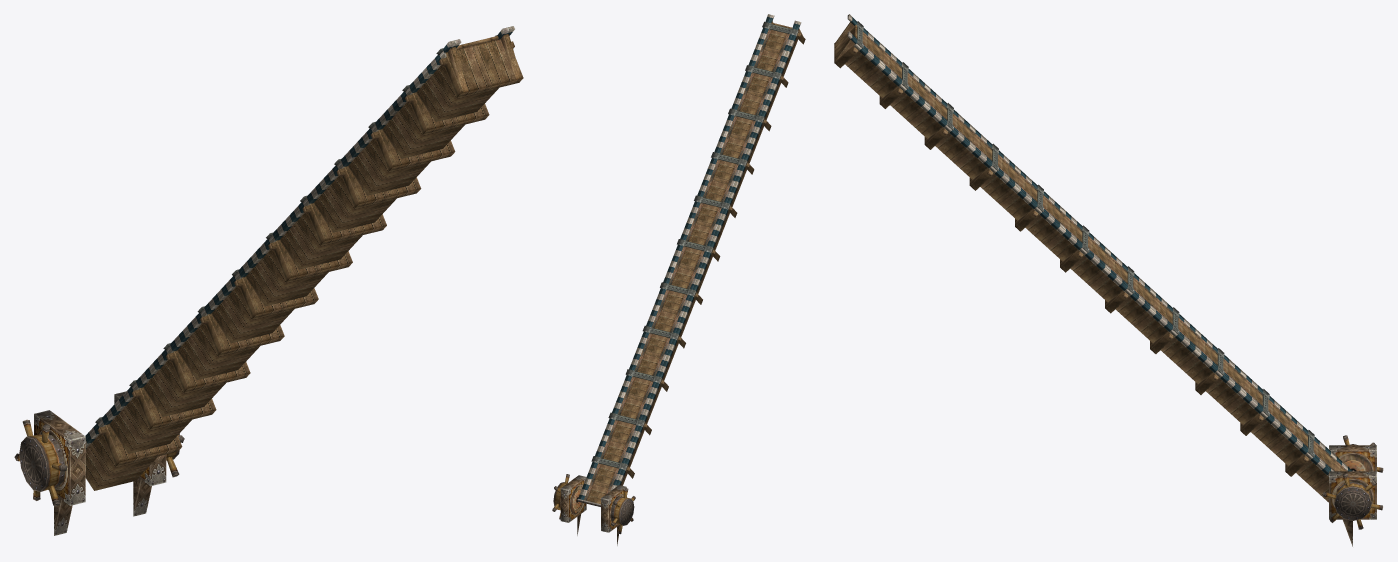
The model's file is OBJDrawbridge.gltf.
3 renders of one model, left to right at view 1: azimuth 30°, elevation 25°; view 2: azimuth 150°, elevation 25°; view 3: azimuth 270°, elevation 25°, orthographic. The views are drawn at different scales.
Parts seen in each view (by area): view 1: DrawbridgeBridge, DrawbridgeStatic, DrawbridgeCog; view 2: DrawbridgeBridge, DrawbridgeStatic, DrawbridgeCog; view 3: DrawbridgeBridge, DrawbridgeStatic, DrawbridgeCog.
Boxes of the visible parts, x1=… form: DrawbridgeBridge: x1=85, y1=26, x2=523, y2=490; DrawbridgeStatic: x1=34, y1=391, x2=166, y2=535; DrawbridgeCog: x1=14, y1=419, x2=184, y2=506; DrawbridgeBridge: x1=577, y1=14, x2=805, y2=506; DrawbridgeStatic: x1=560, y1=475, x2=626, y2=545; DrawbridgeCog: x1=552, y1=474, x2=635, y2=534; DrawbridgeBridge: x1=834, y1=14, x2=1354, y2=502; DrawbridgeStatic: x1=1329, y1=445, x2=1376, y2=546; DrawbridgeCog: x1=1322, y1=435, x2=1383, y2=529.
Bounding box in the file's own units: 6.38 × 35.2 × 34.44.
Materials: 3 (3 with a texture image).
